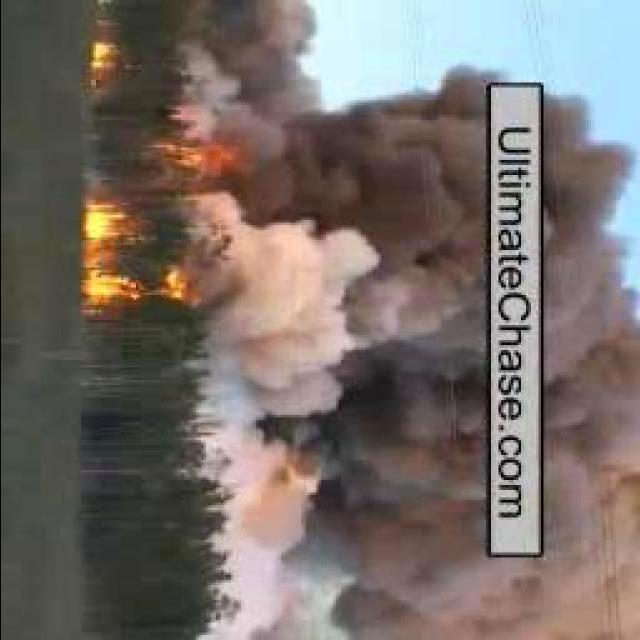Fire: (83, 211, 199, 316), (157, 143, 253, 180), (90, 41, 122, 80)
